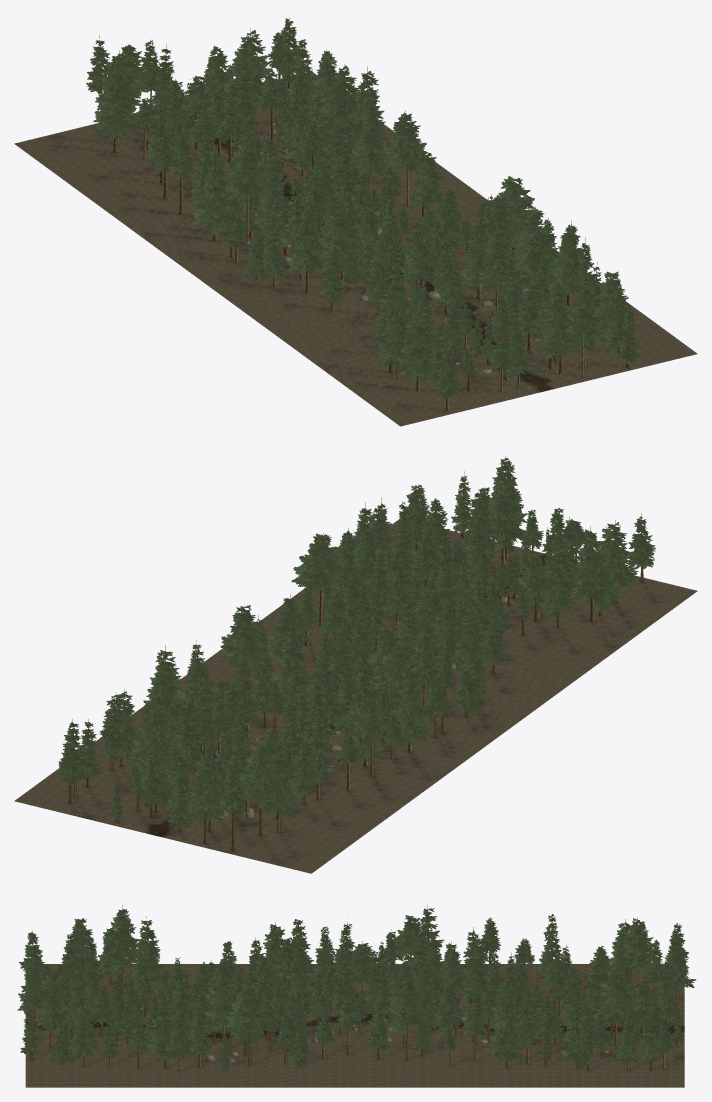
File: woodland.glb
3 renders of one model, top to bottom at view 1: azimuth 30°, elevation 25°; view 2: azimuth 150°, elevation 25°; view 3: azimuth 270°, elevation 25°, orthographic. The views are drawn at different scales.
Visible parts, largest first — view 1: needles, forest_floor, bark, mud; view 2: needles, forest_floor, bark, mud; view 3: needles, forest_floor, bark, mud, rock, fern.
Boxes of the visible parts, left/top/right/bottom form: needles: left=86, top=18, right=640, bottom=398; forest_floor: left=14, top=71, right=697, bottom=426; bark: left=92, top=17, right=635, bottom=412; mud: left=182, top=114, right=567, bottom=395; needles: left=58, top=458, right=655, bottom=829; forest_floor: left=14, top=519, right=697, bottom=873; bark: left=64, top=456, right=649, bottom=850; mud: left=134, top=550, right=554, bottom=839; needles: left=17, top=908, right=696, bottom=1069; forest_floor: left=25, top=964, right=684, bottom=1087; bark: left=26, top=905, right=684, bottom=1072; mud: left=25, top=1010, right=684, bottom=1043; rock: left=103, top=998, right=631, bottom=1063; fern: left=35, top=993, right=643, bottom=1053.
Size of the model in its own units: 60 by 20.01 by 140.
Materials: 9 (7 with a texture image).
